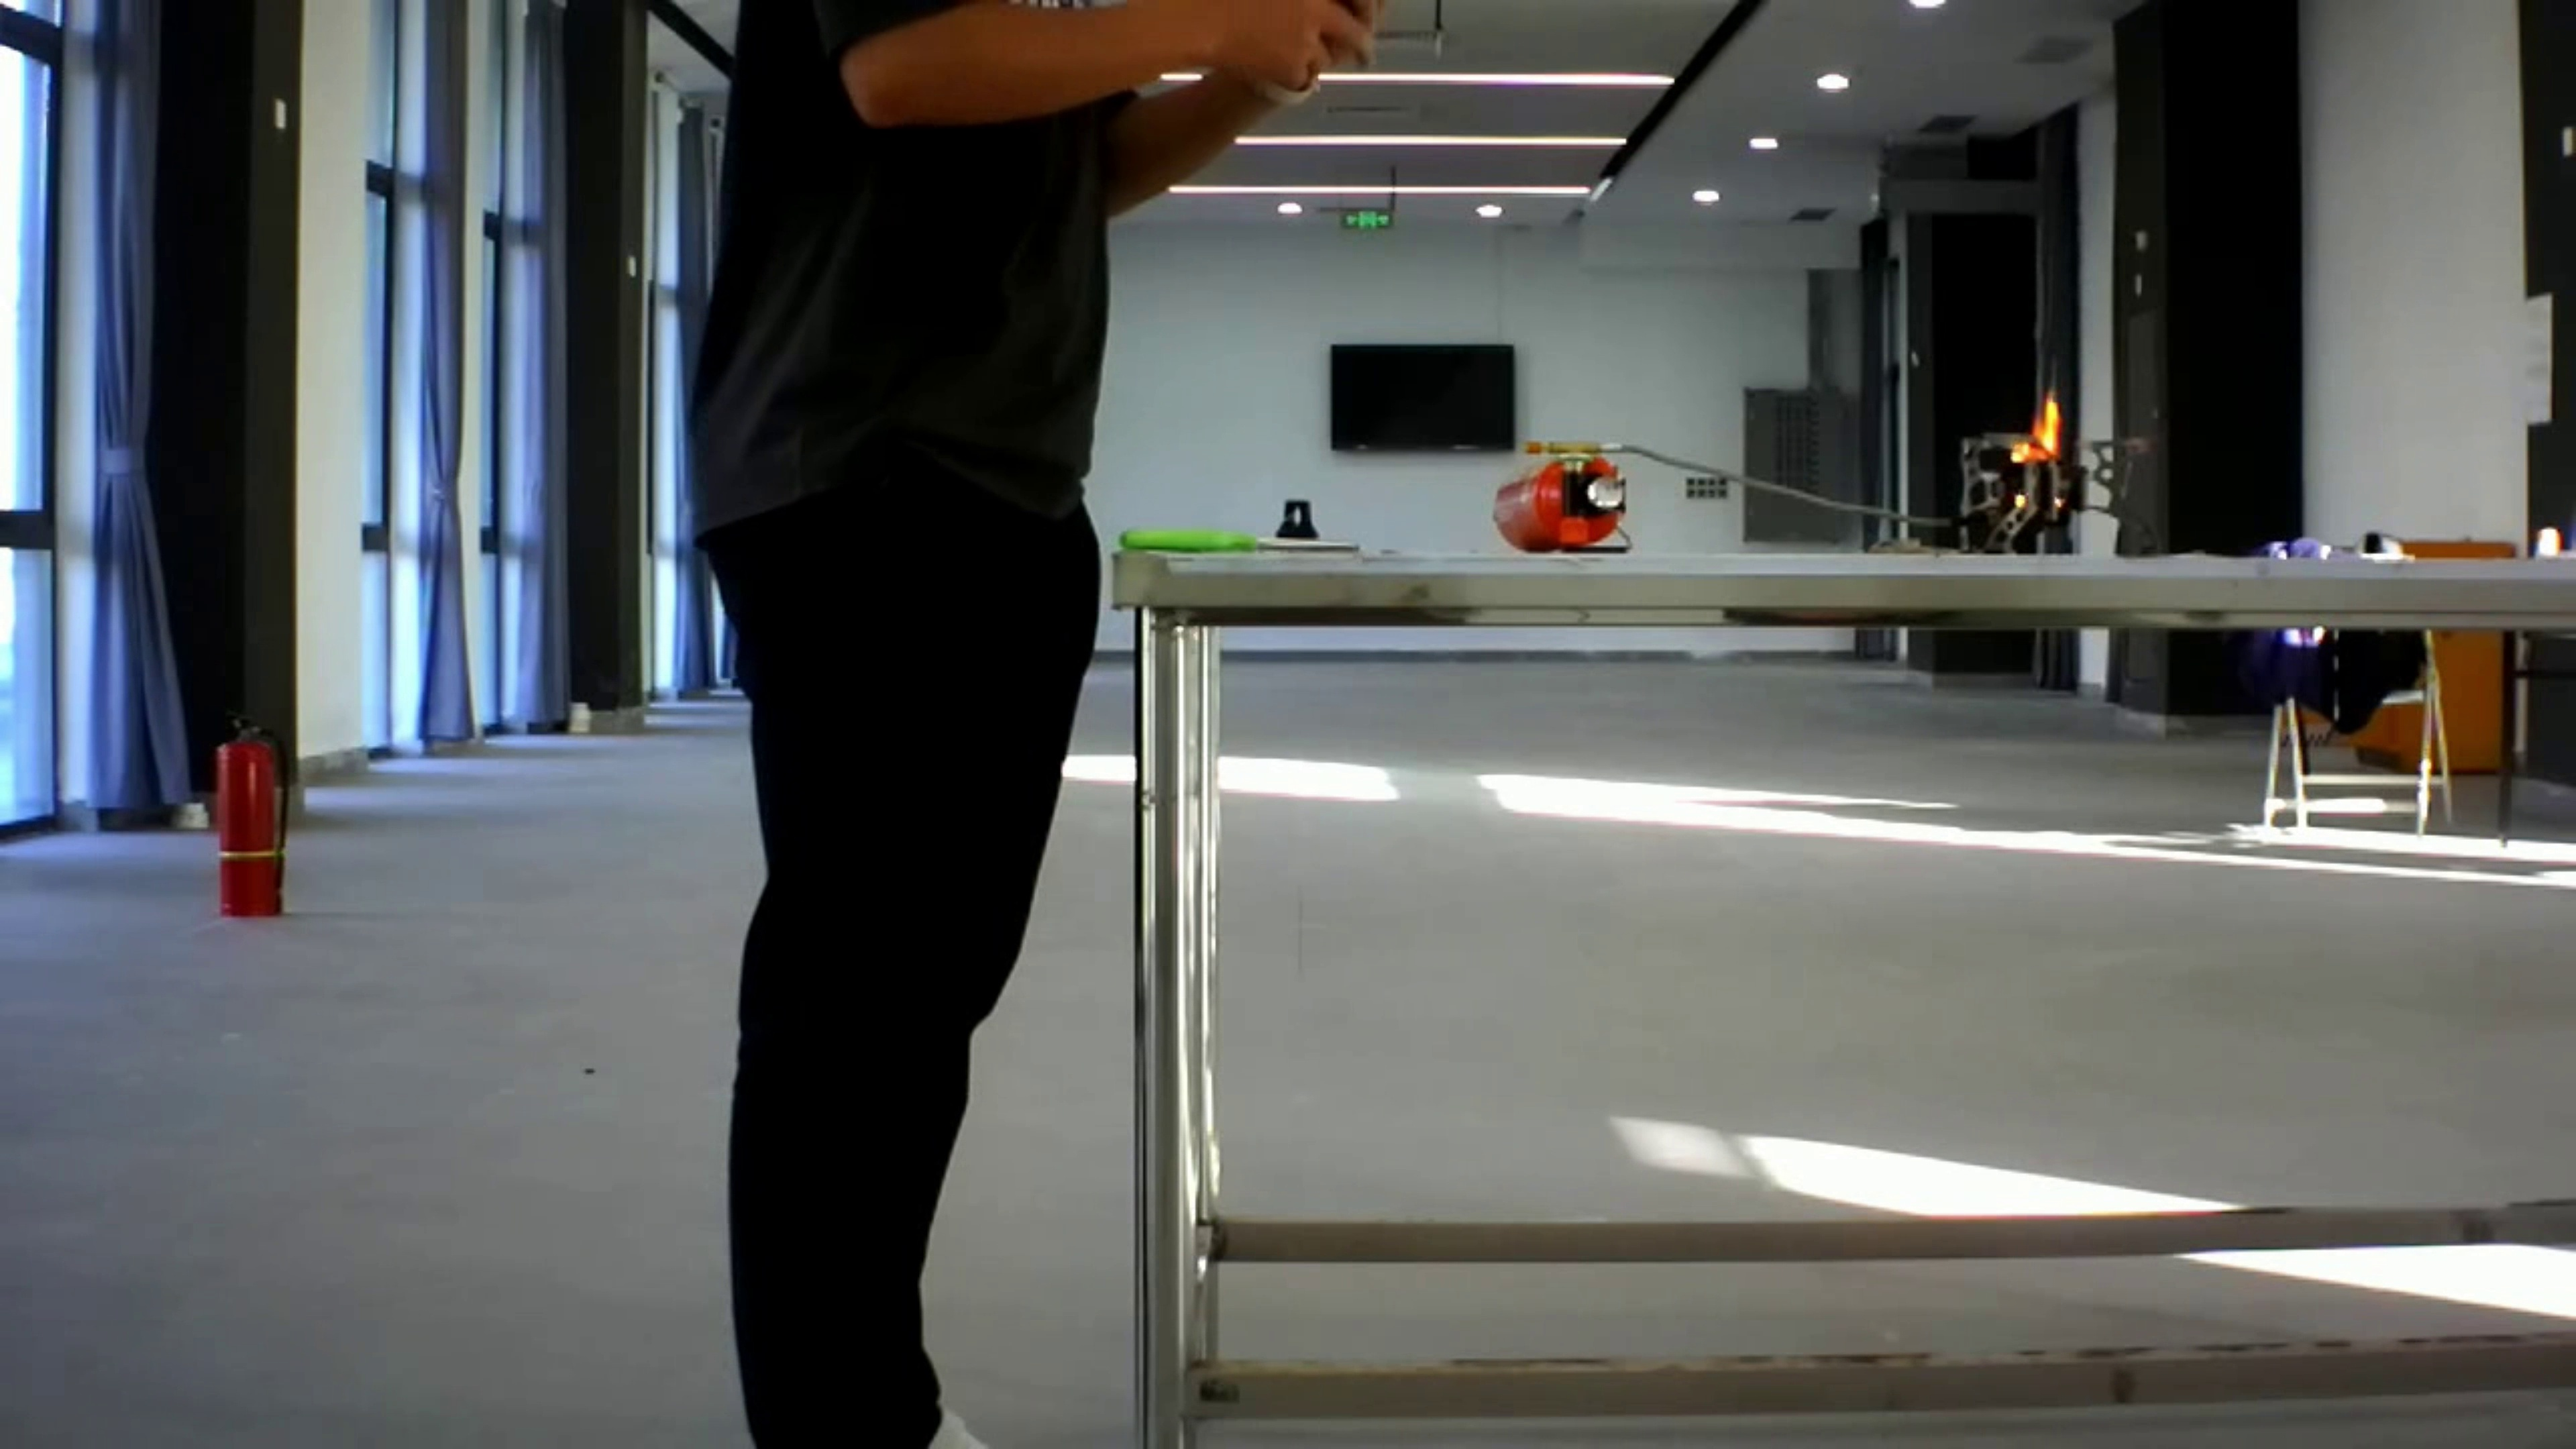Fire: (1987, 375, 2077, 508)
